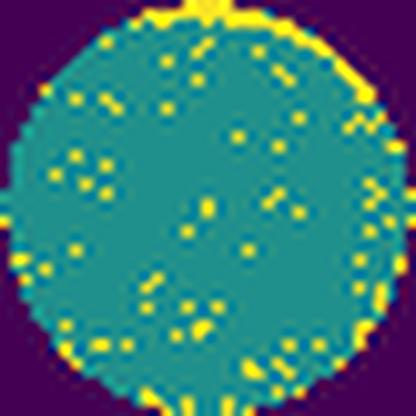Edge-Loc: (137, 0, 379, 107)
